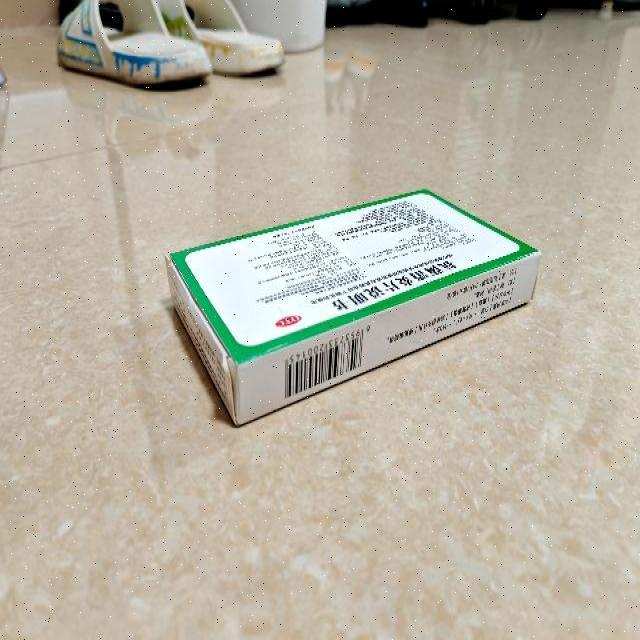box: (165, 187, 542, 426)
